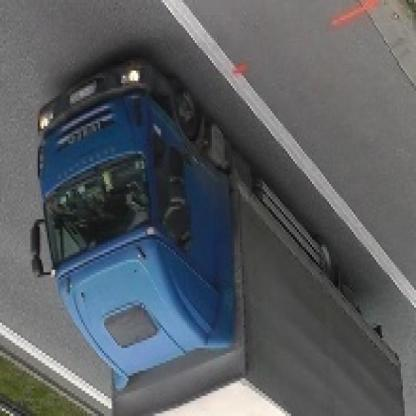truck: (29, 56, 402, 416)
